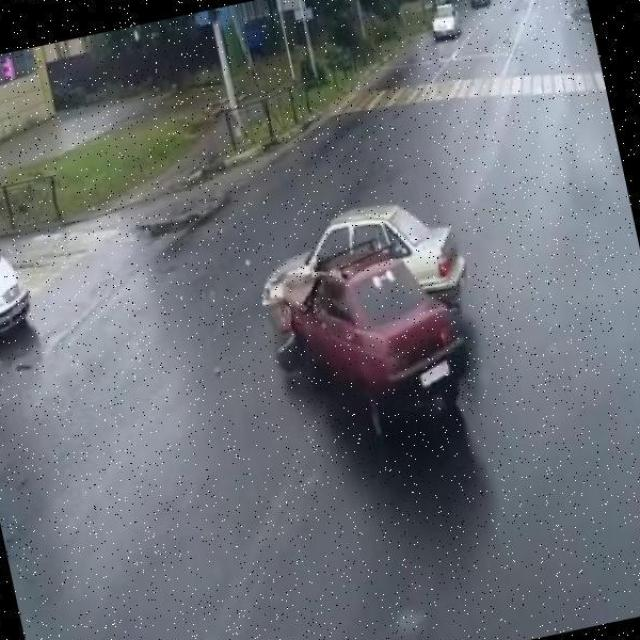accident: (232, 186, 516, 461)
